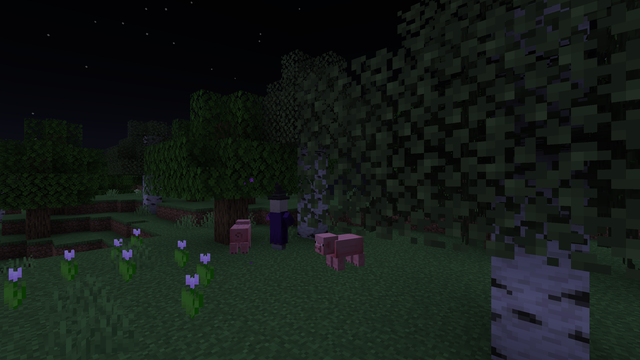cochons: (323, 233, 364, 272), (223, 222, 257, 253)
sorcieres: (267, 196, 289, 250)
